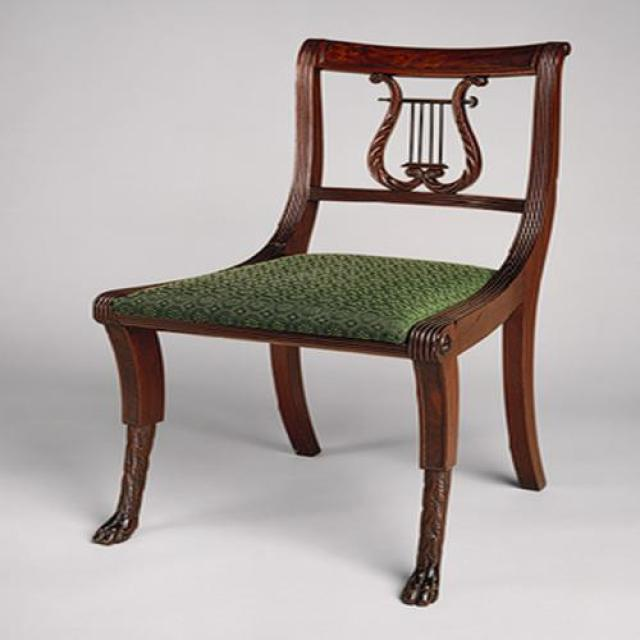chair: (91, 40, 572, 609)
